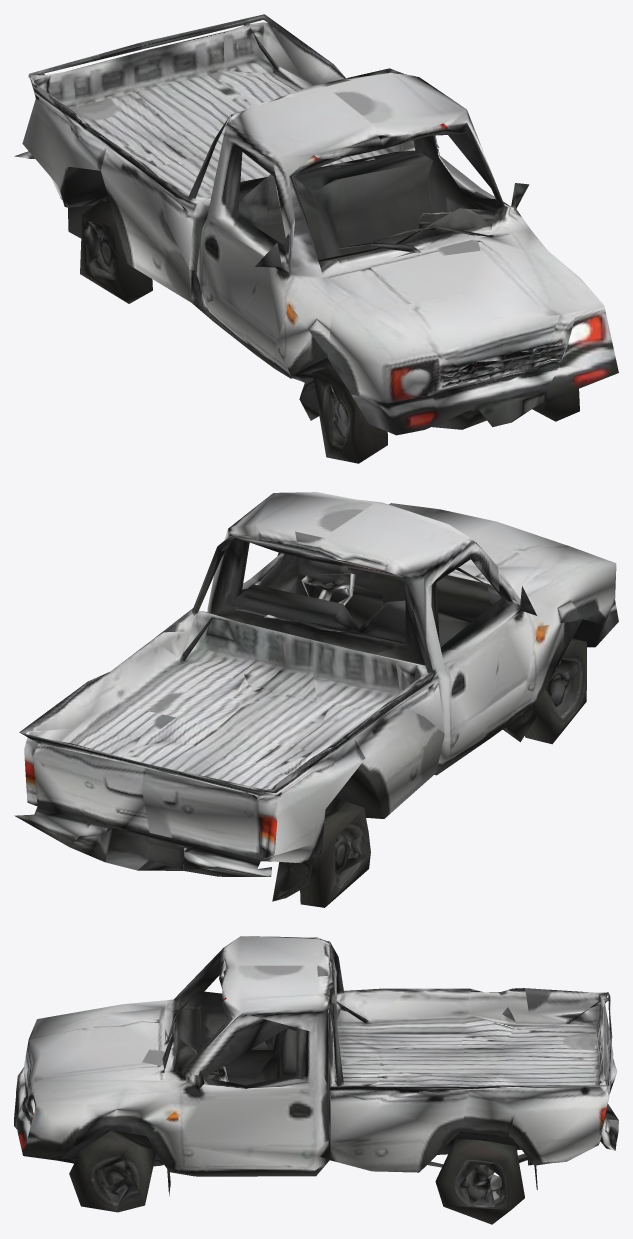
File: steel_pickup.glb
The picture shows the model from 3 angles, top to bottom: view 1: azimuth 30°, elevation 25°; view 2: azimuth 150°, elevation 25°; view 3: azimuth 270°, elevation 25°; orthographic projection. The views are drawn at different scales.
Parts seen in each view (by area): view 1: tripo_node_df9e0165-696b-4a88-94a7-9055da041112; view 2: tripo_node_df9e0165-696b-4a88-94a7-9055da041112; view 3: tripo_node_df9e0165-696b-4a88-94a7-9055da041112.
Boxes of the visible parts, x1,y1,x2,y2 form: tripo_node_df9e0165-696b-4a88-94a7-9055da041112: (14, 14, 618, 463); tripo_node_df9e0165-696b-4a88-94a7-9055da041112: (14, 492, 618, 907); tripo_node_df9e0165-696b-4a88-94a7-9055da041112: (14, 936, 618, 1224).
Bounding box in the file's own units: 0.4266 × 0.3908 × 1.
1 material, 1 textured.
